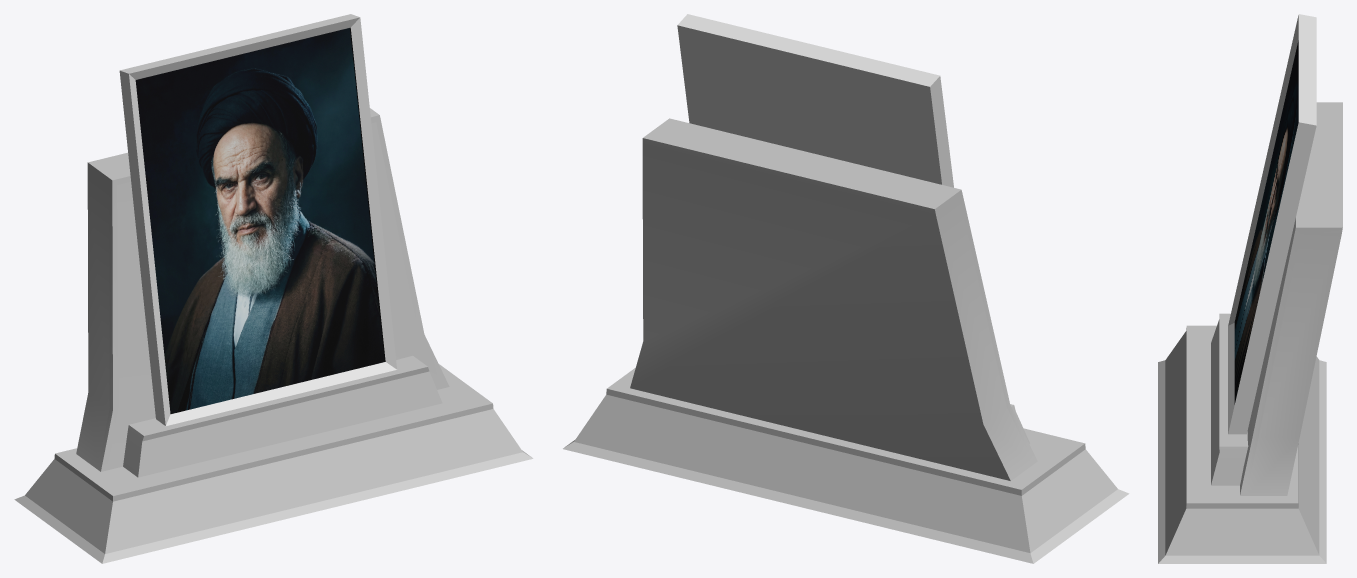
File: PictureFrame_001.fbx
The picture shows the model from 3 angles, left to right: view 1: azimuth 30°, elevation 25°; view 2: azimuth 150°, elevation 25°; view 3: azimuth 270°, elevation 25°; orthographic projection. The views are drawn at different scales.
Visible parts, largest first — view 1: PictureFrame.001; view 2: PictureFrame.001; view 3: PictureFrame.001.
Boxes of the visible parts, x1,y1,x2,y2 form: PictureFrame.001: [14, 14, 533, 563]; PictureFrame.001: [563, 14, 1129, 563]; PictureFrame.001: [1158, 14, 1342, 563].
Bounding box in the file's own units: 1.76 × 1.61 × 0.6814.
